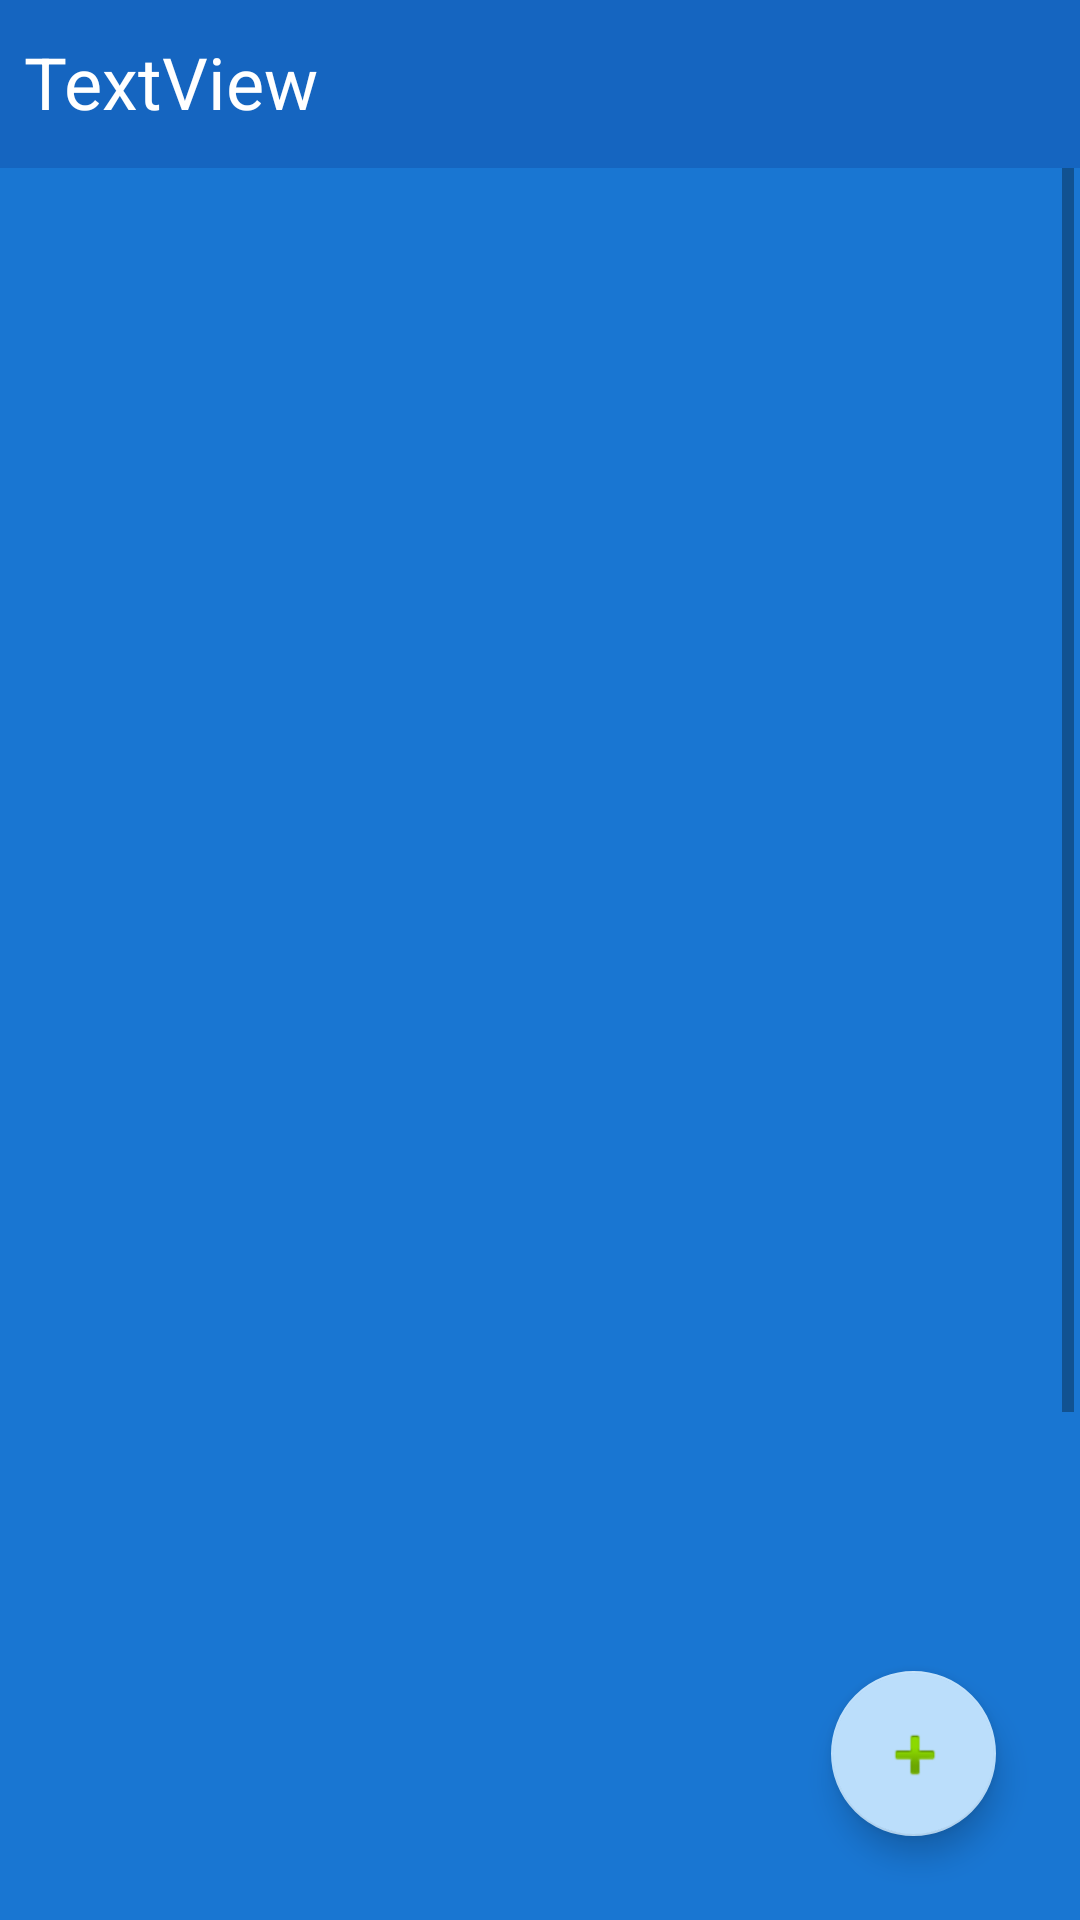

Icon bounding boxes for this 1080px×1920px phone screenshot, format box=[x1, y1, x2, y2]:
add: box=[831, 1671, 996, 1836]
